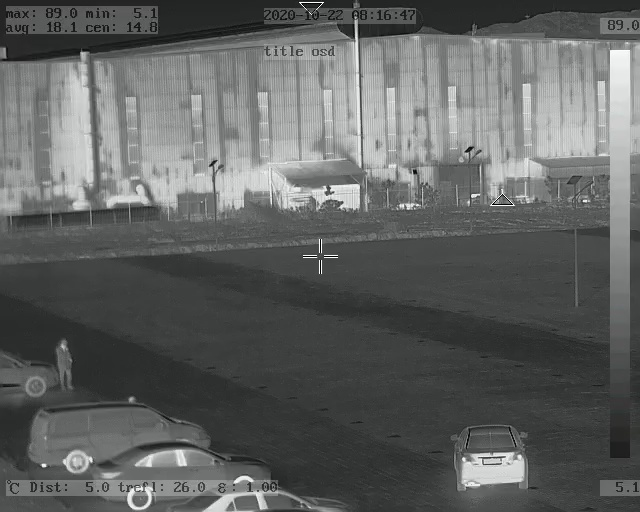person: (50, 334, 73, 395)
vehicle: (28, 405, 214, 480), (95, 443, 275, 509), (450, 413, 527, 488), (176, 481, 350, 512), (1, 341, 58, 399)
